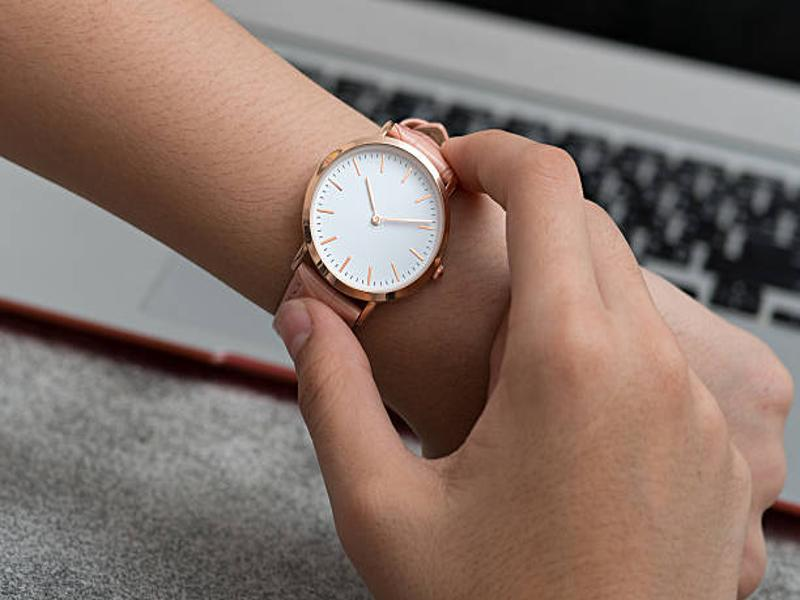watch: (267, 116, 462, 341)
